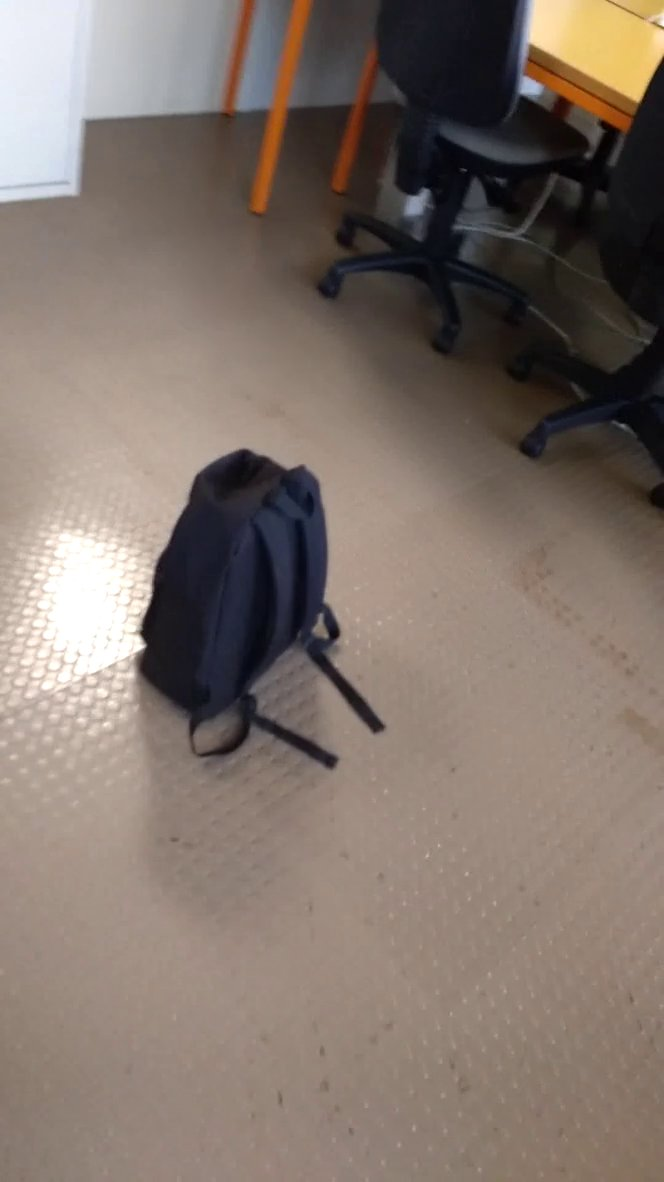bag: (132, 444, 396, 786)
